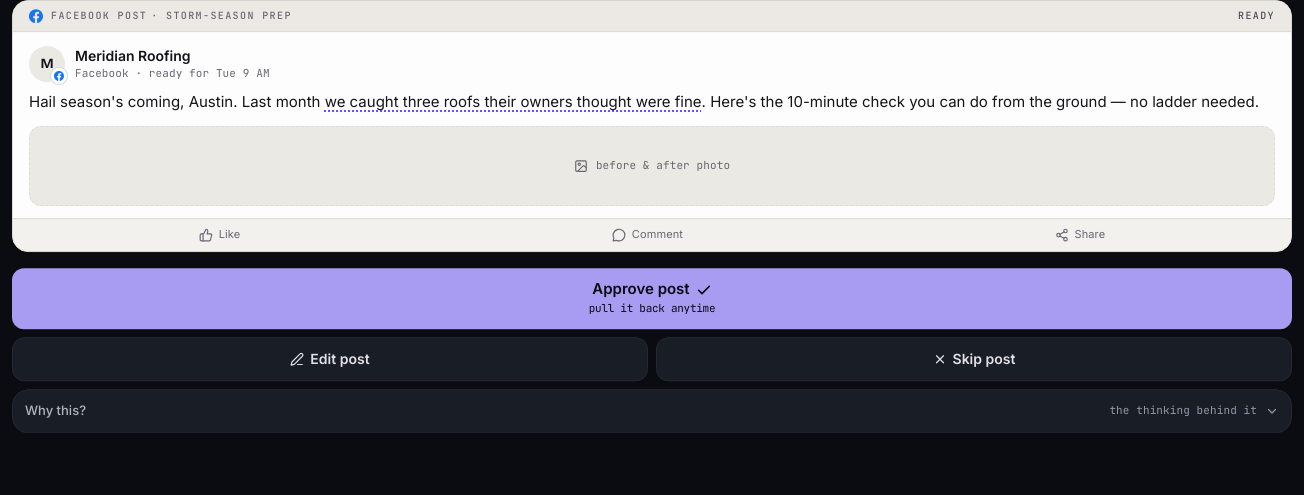
it: CardStack (store-driven) › after all drafts, the question card appears; question cards link to create
What coordinates should you click on to do the following:
click the button "Skip post"
I would click on:
 (974, 359)
Its box is [656,337,1292,381].
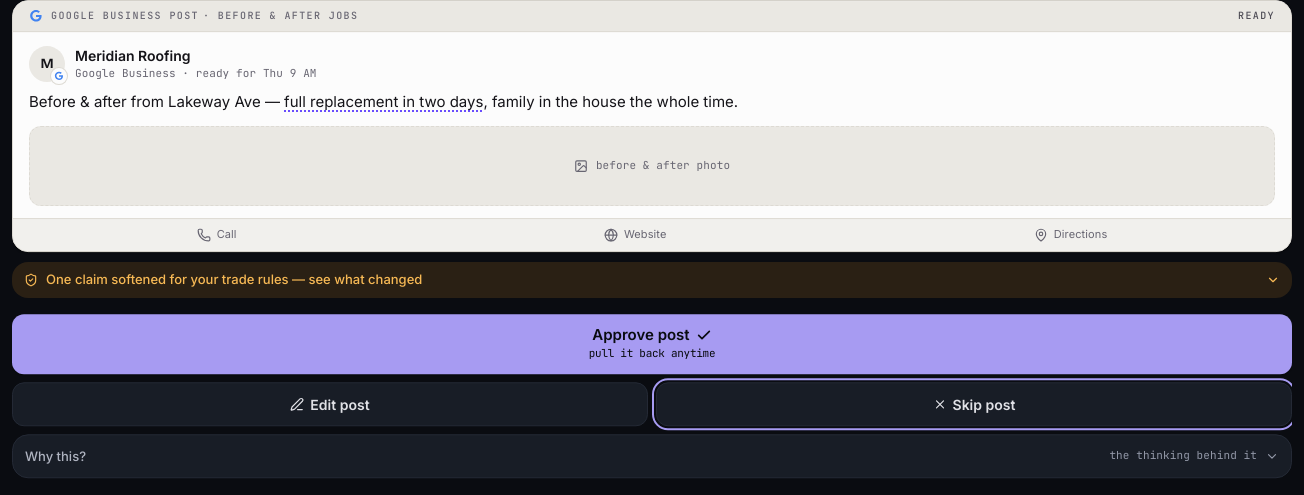
What coordinates should you click on to do the following:
click the button "Skip post"
I would click on:
 (974, 405)
Its box is [656,383,1292,427].
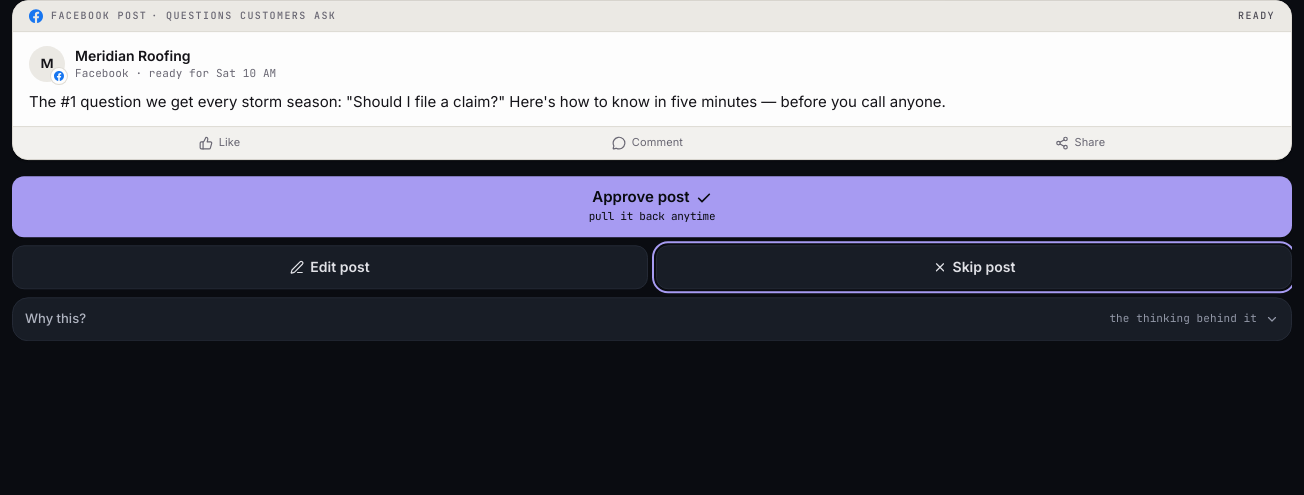
What coordinates should you click on to do the following:
click the button "Skip post"
I would click on:
 (974, 267)
Its box is [656,245,1292,289].
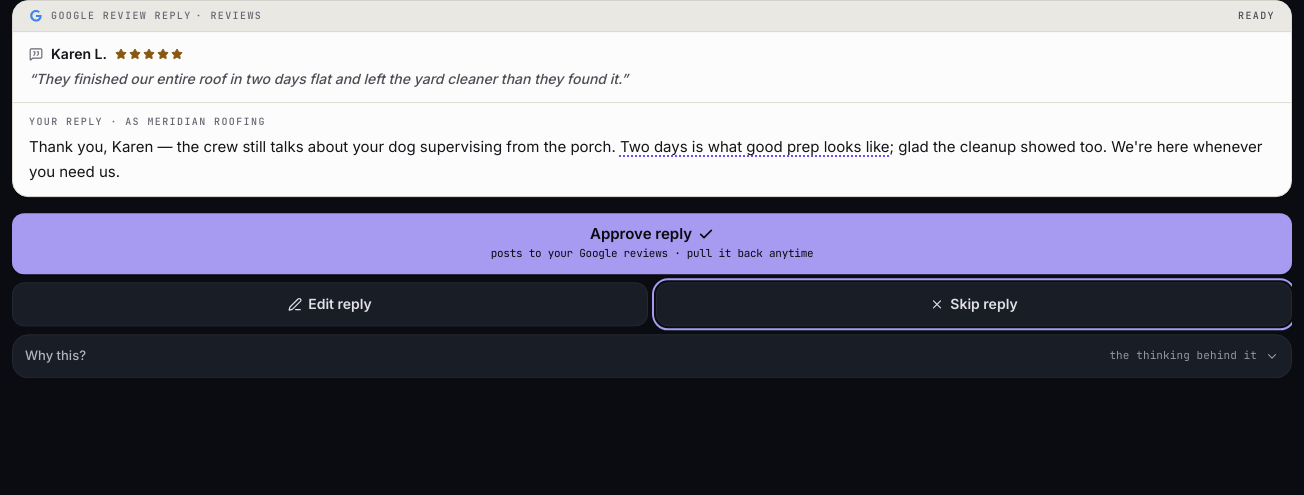
What coordinates should you click on to do the following:
click the button "Skip reply"
I would click on:
 (974, 304)
Its box is [656,282,1292,326].
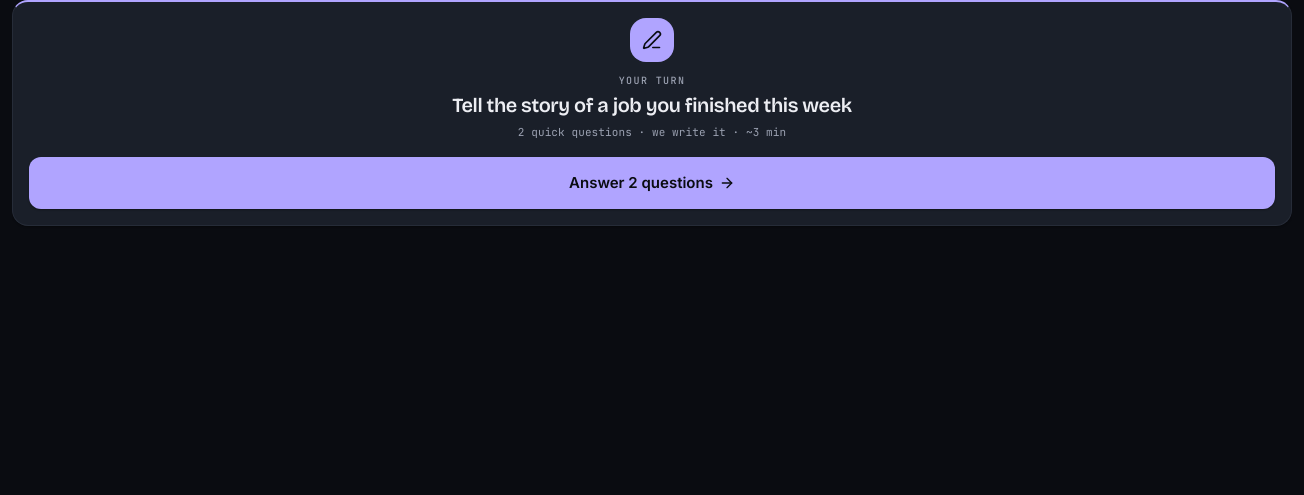
Check: the text "Tell the story of a job you finished this week" is shown, box [452,93,852,117]
